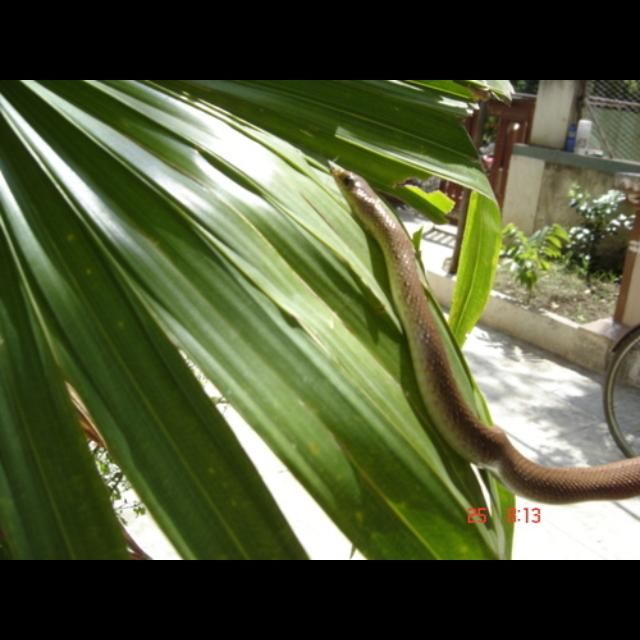snake: (322, 153, 640, 505)
